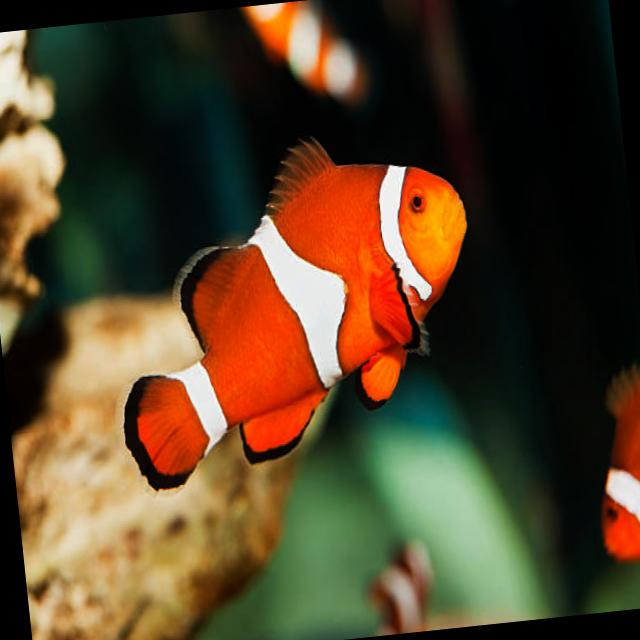ClownFish: (97, 124, 493, 502)
